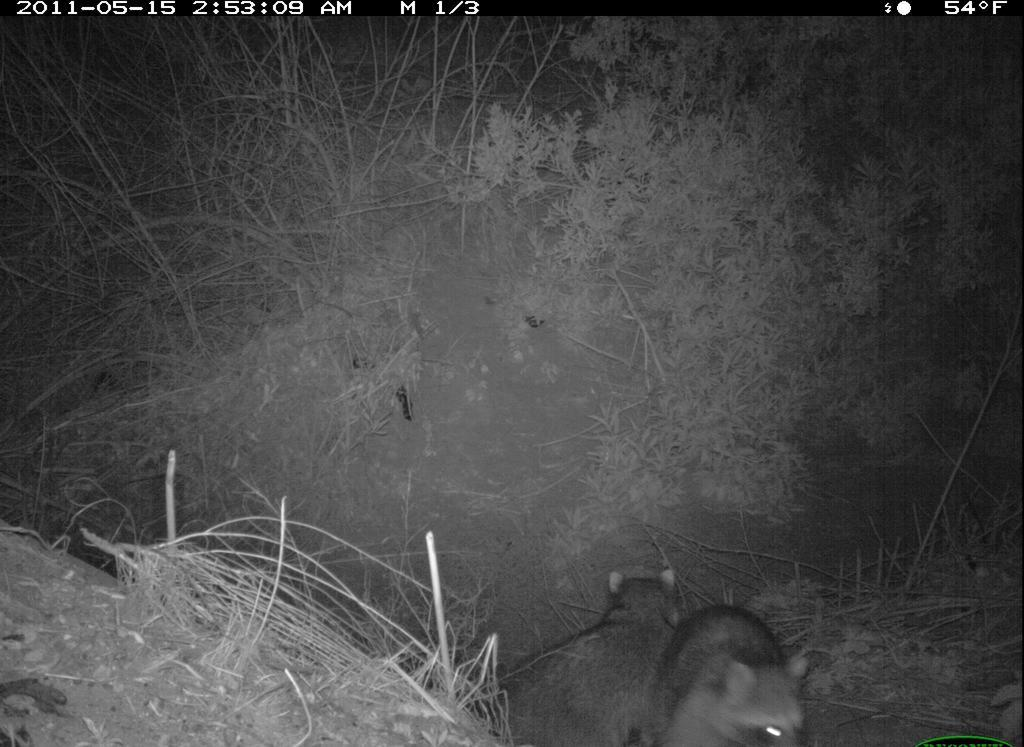raccoon: (472, 560, 673, 747), (646, 597, 818, 745)
